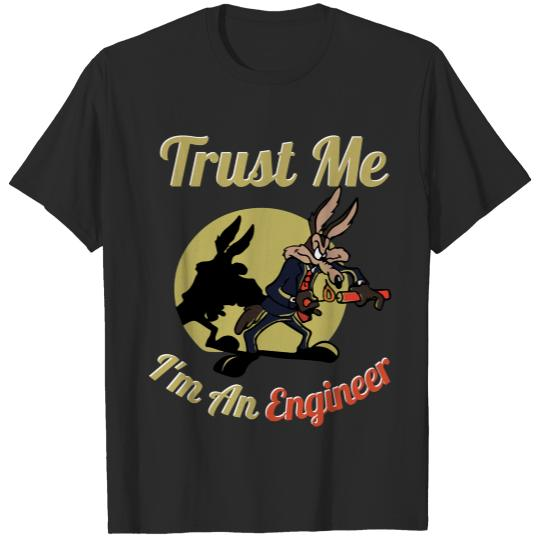design: (143, 132, 394, 430)
